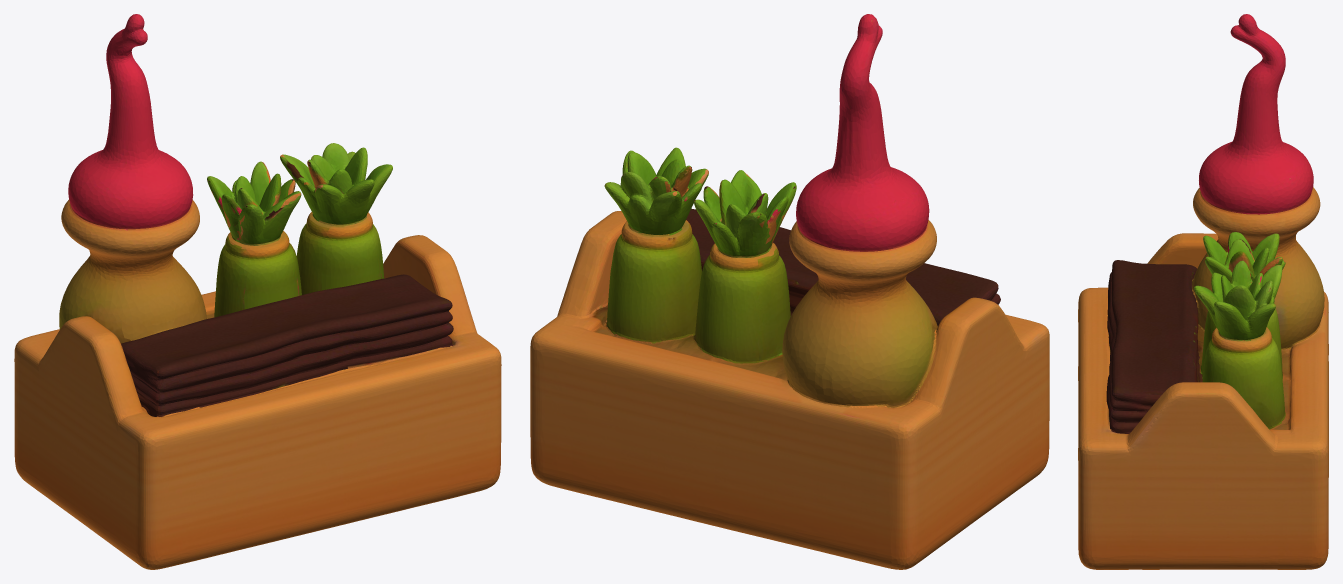
The model's file is garak_st_garnish.glb.
The picture shows the model from 3 angles, left to right: view 1: azimuth 30°, elevation 25°; view 2: azimuth 150°, elevation 25°; view 3: azimuth 270°, elevation 25°; orthographic projection. The views are drawn at different scales.
Visible parts, largest first — view 1: garak_st_garnish.obj; view 2: garak_st_garnish.obj; view 3: garak_st_garnish.obj.
Boxes of the visible parts, <box> form: garak_st_garnish.obj: <box>14,14,501,569</box>; garak_st_garnish.obj: <box>530,14,1049,569</box>; garak_st_garnish.obj: <box>1078,14,1328,569</box>.
Bounding box in the file's own units: 1.56 × 1.97 × 1.02.
1 material, 1 textured.
